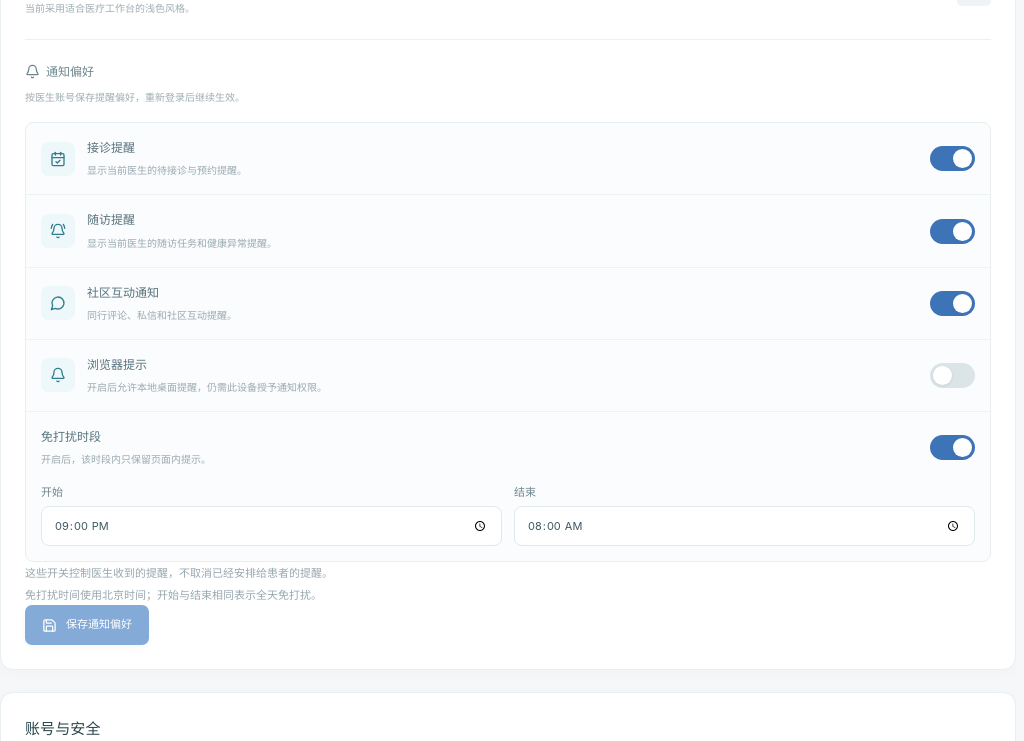
Scenario: Doctor settings › keeps settings usable if requesting device permission throws synchronously
(page scrolled)
Click the switch named "浏览器提示" at (952, 375), box [930,363,975,388]
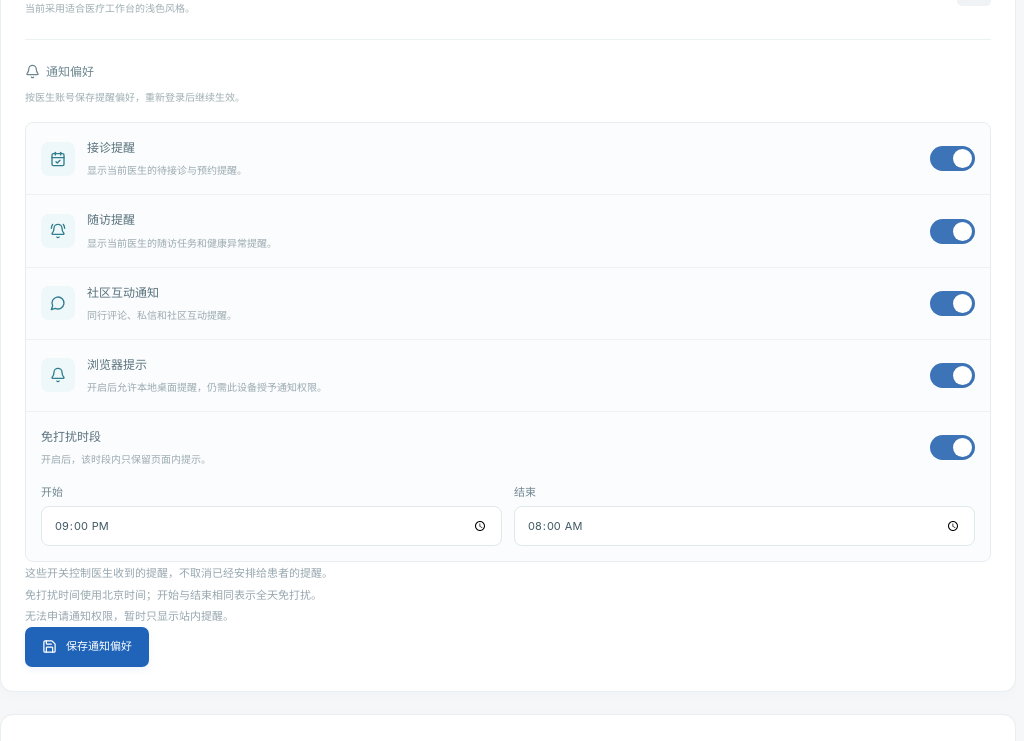
Expected: the text "无法申请通知权限，暂时只显示站内提醒。" is shown, [25,609,234,623]
Expected: the button "保存通知偏好" is enabled, [25,627,149,667]
